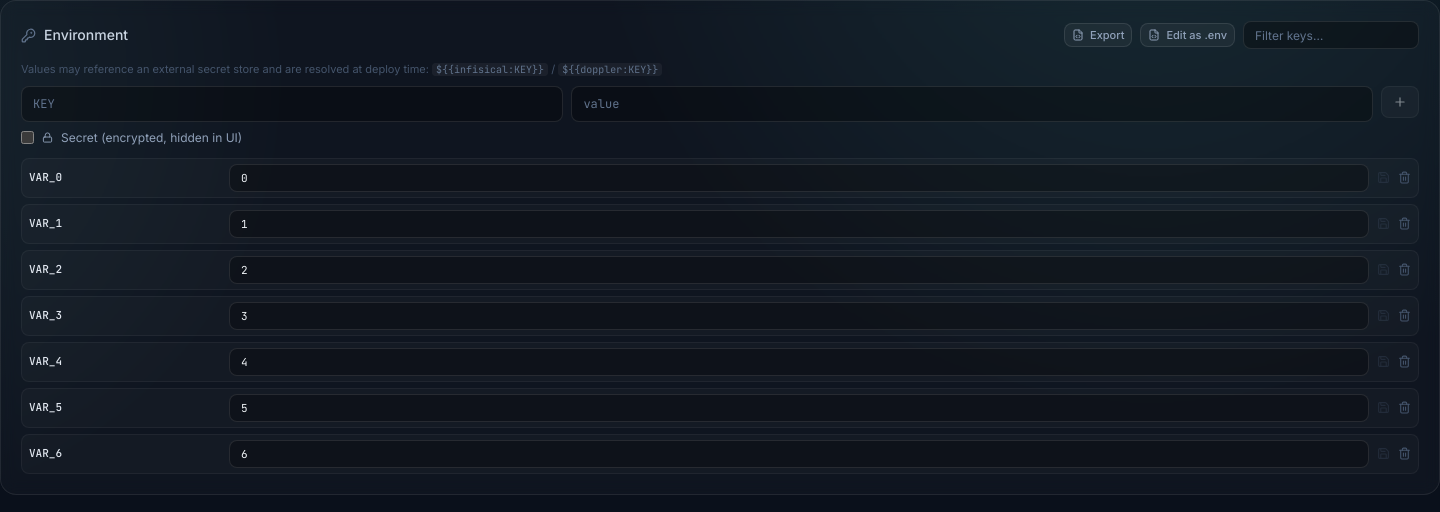
Scenario: EnvCard › filters the variable list once there are more than five rows
Check: the text "VAR_0" is shown, box [29,170,62,184]
Check: the text "VAR_6" is shown, box [29,446,62,460]
Type "var_3" into the field with placeholder "Filter keys…". click: {"x": 1331, "y": 35}
box: [1243,21,1419,49]
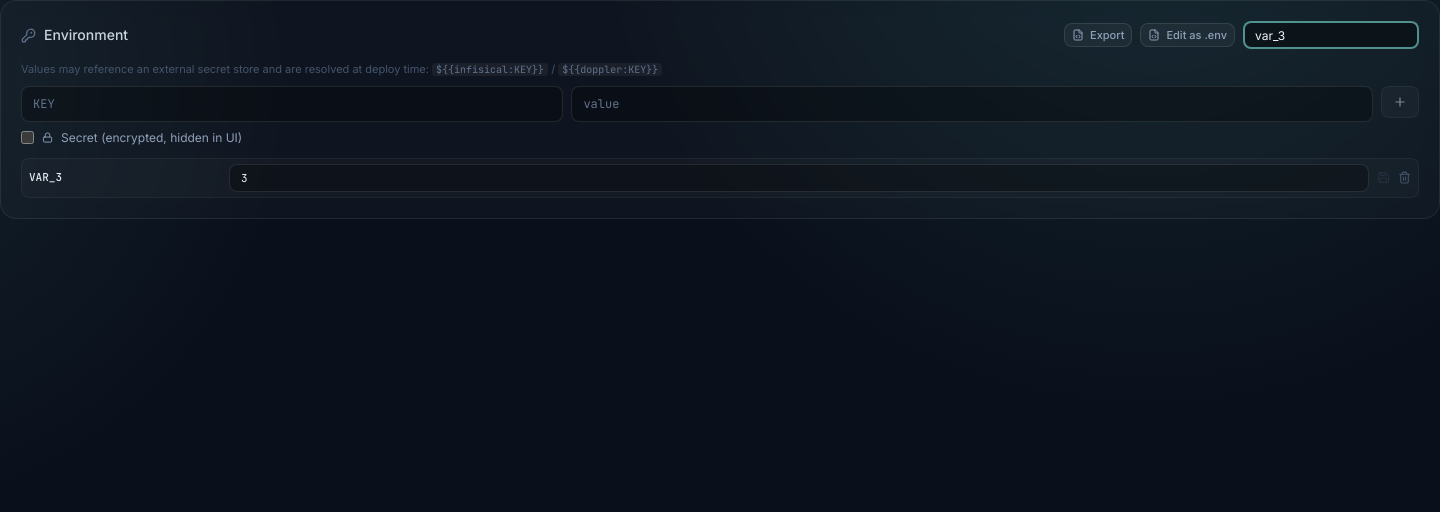
Check: the text "VAR_3" is shown, box [29,170,62,184]
Check: the text "VAR_0" is gone
